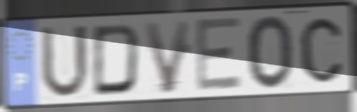C: (298, 15, 344, 85)
D: (91, 22, 143, 99)
E: (193, 15, 244, 96)
O: (245, 13, 295, 92)
U: (39, 23, 92, 102)
V: (141, 17, 193, 96)
